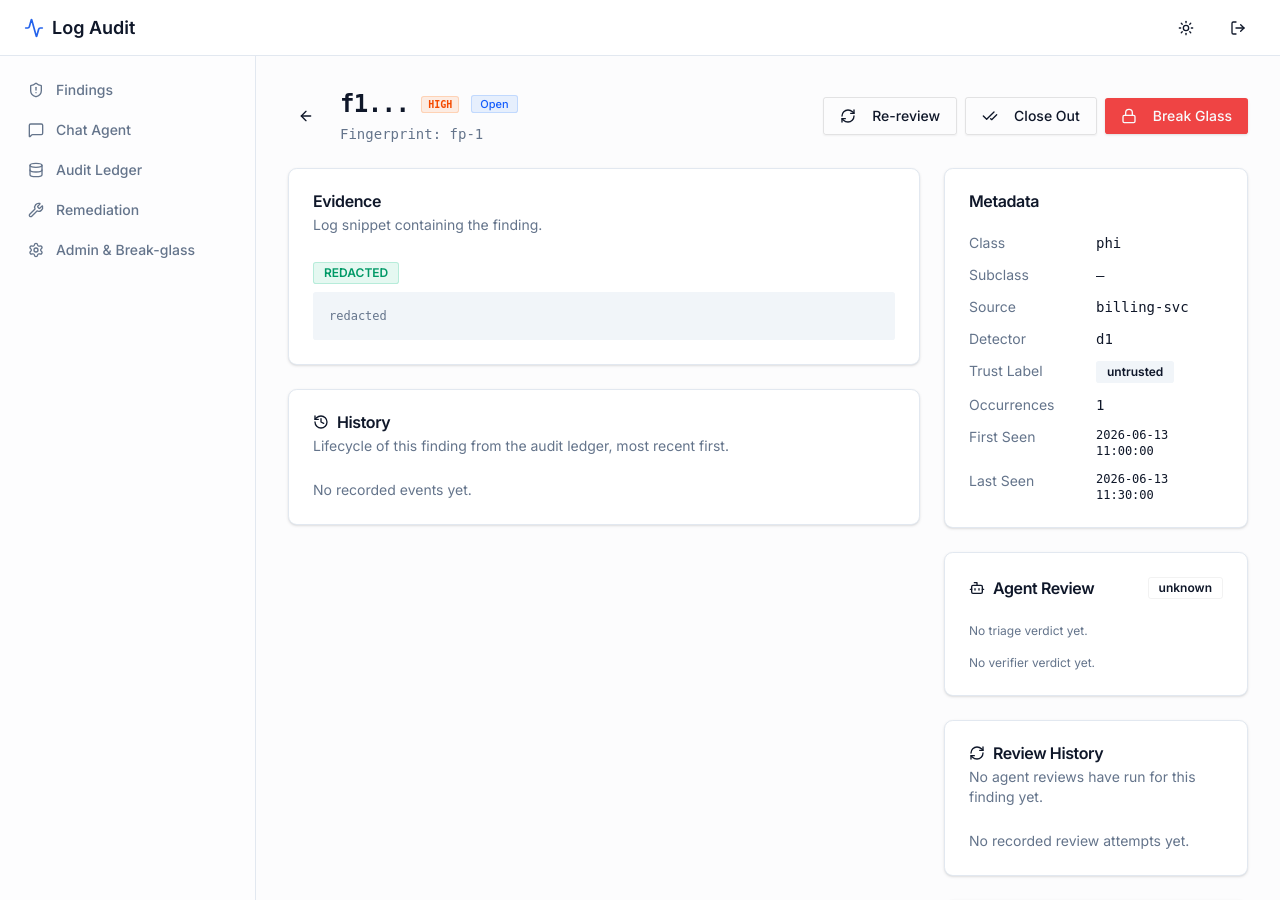
it: FindingDetail emergency access countdown › shows a live countdown that ticks down once per second while unlocked
Click the button "Break Glass".
click(1176, 116)  # box top-left (1105, 98), bottom-right (1248, 134)
Wait 5000 ms
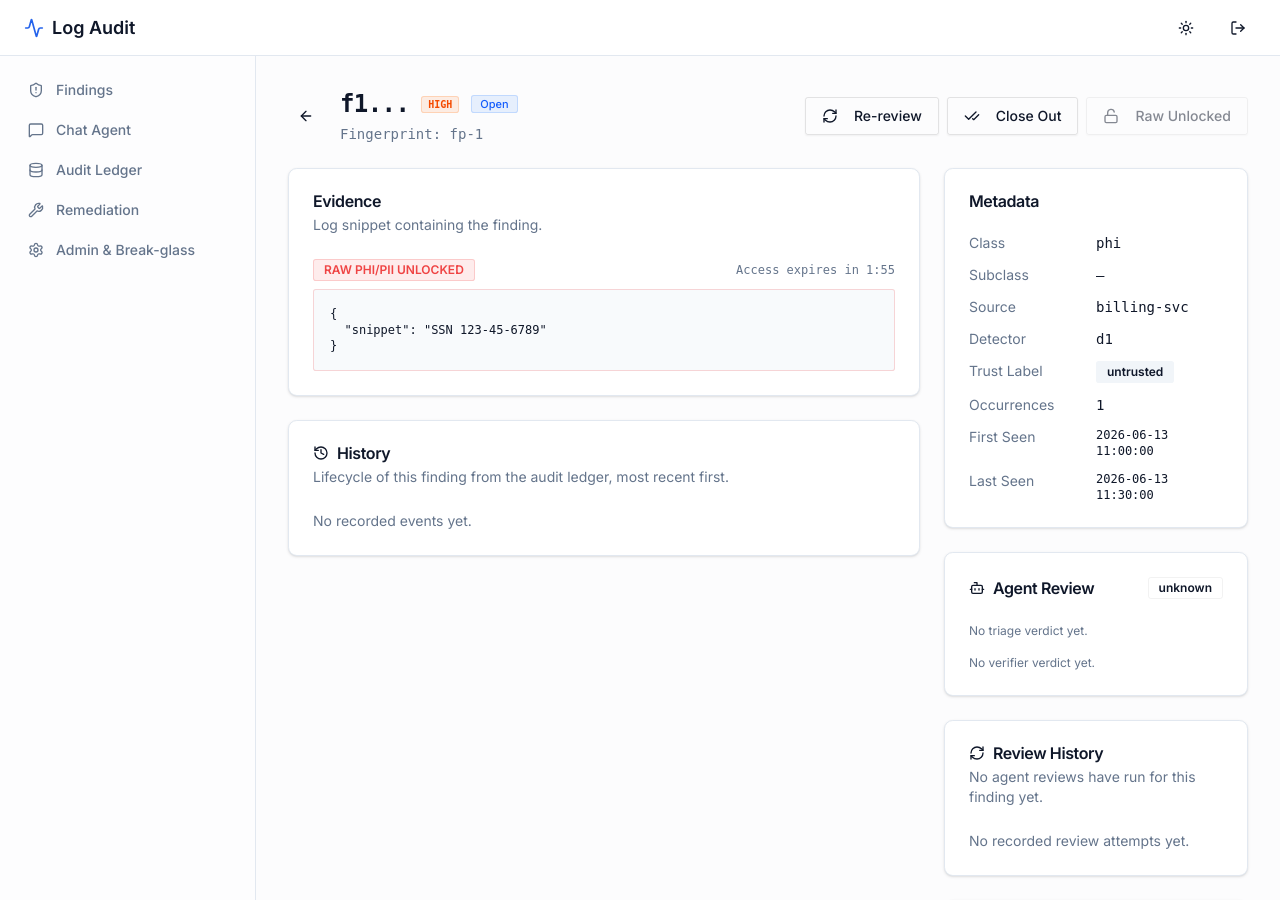
Expected: the text "Access expires in 1:55" is shown, top-left (736, 262), bottom-right (895, 278)
